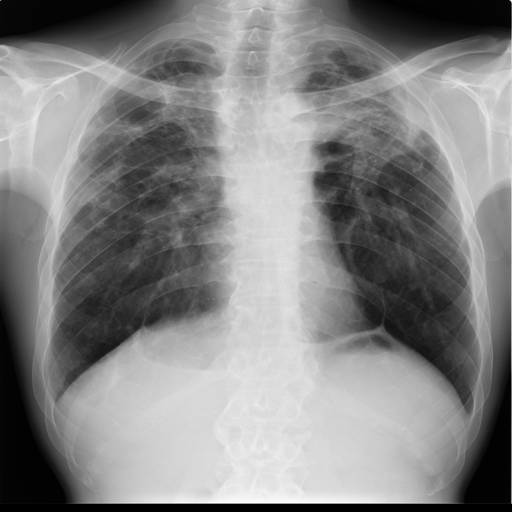TB: (82, 77, 196, 264), (320, 64, 426, 186)
